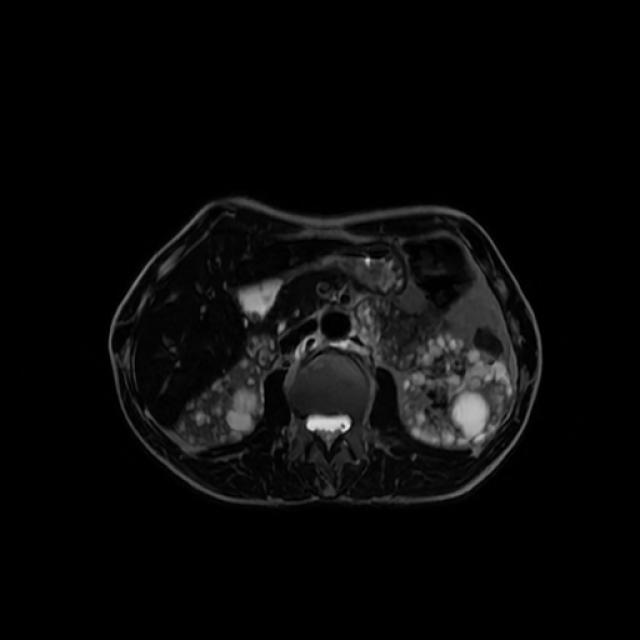sag: (175, 357, 264, 448)
sol: (398, 331, 514, 451)
